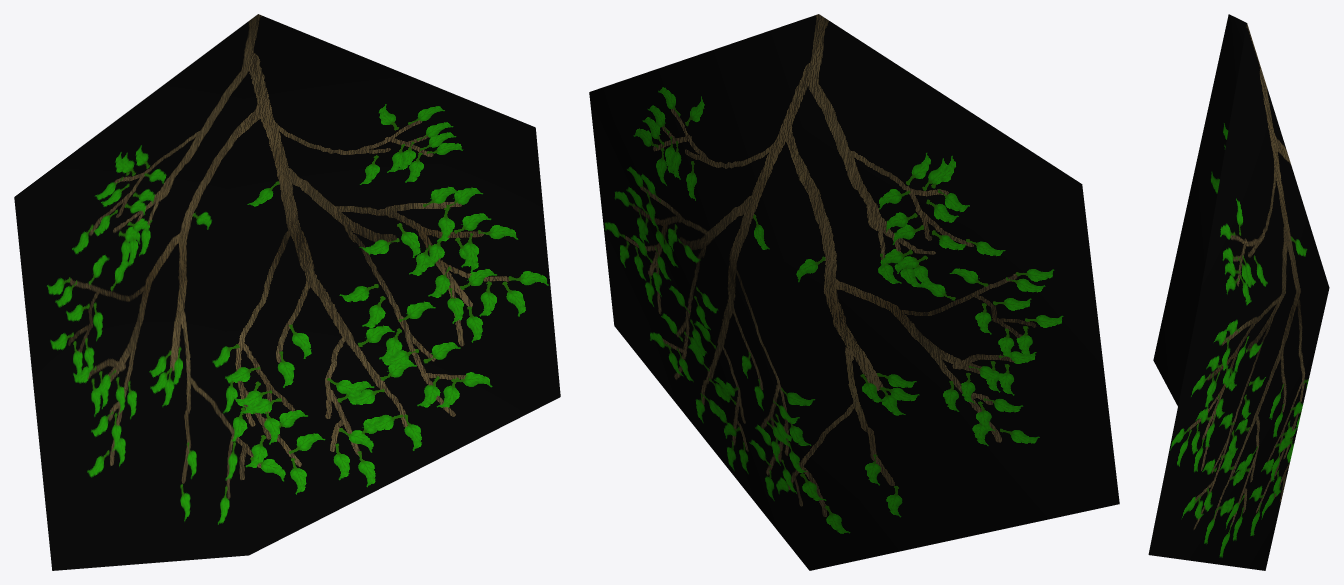
Rendered from LeafMesh9.fbx.
The picture shows the model from 3 angles, left to right: view 1: azimuth 30°, elevation 25°; view 2: azimuth 150°, elevation 25°; view 3: azimuth 270°, elevation 25°; orthographic projection.
Parts seen in each view (by area): view 1: LeafMesh1; view 2: LeafMesh1; view 3: LeafMesh1.
Part boxes in pixels (x1,y1,x2,y2): LeafMesh1: (14,14,560,570); LeafMesh1: (589,14,1119,570); LeafMesh1: (1148,14,1329,570).
Bounding box in the file's own units: 2 × 2.07 × 0.6195.
